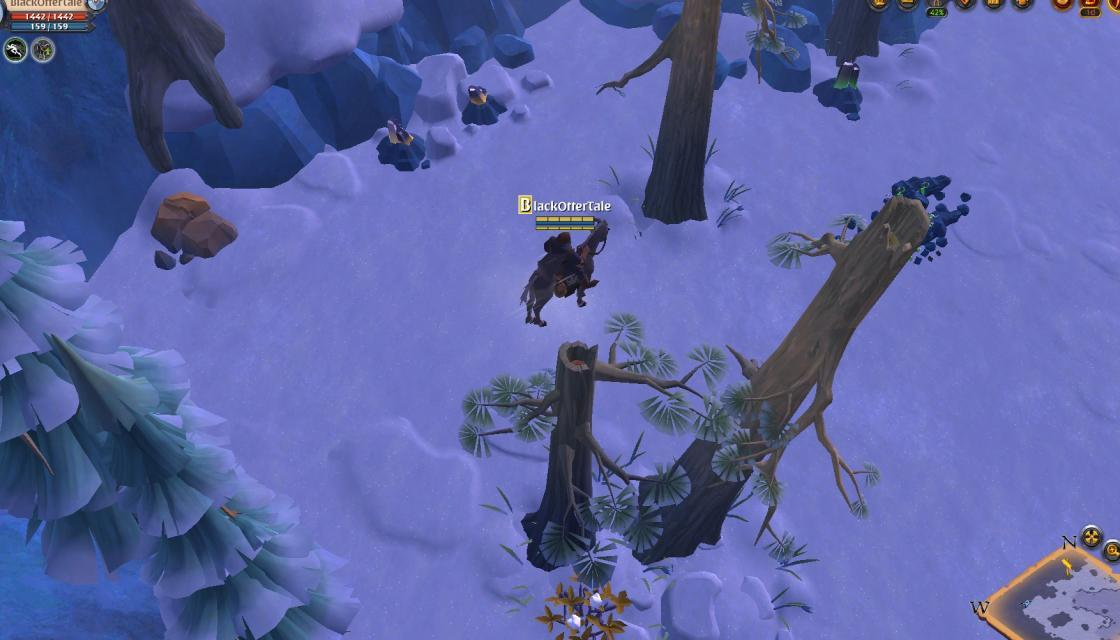copperore: (374, 114, 431, 172), (460, 78, 508, 132)
limestone: (145, 190, 241, 266)
tinore: (812, 55, 869, 112)
